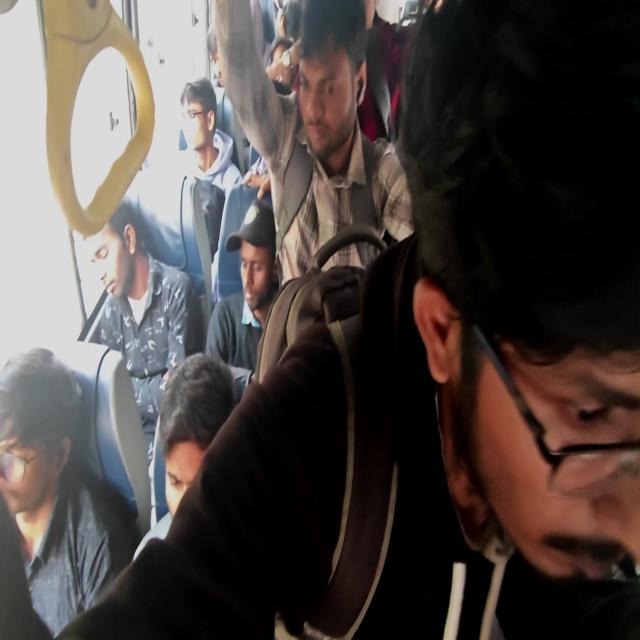person: (414, 0, 638, 599), (1, 358, 74, 539), (158, 354, 236, 518), (82, 196, 144, 311), (297, 41, 354, 158), (238, 233, 274, 317), (265, 39, 299, 99), (180, 91, 212, 152), (268, 1, 302, 40), (209, 50, 219, 65)
